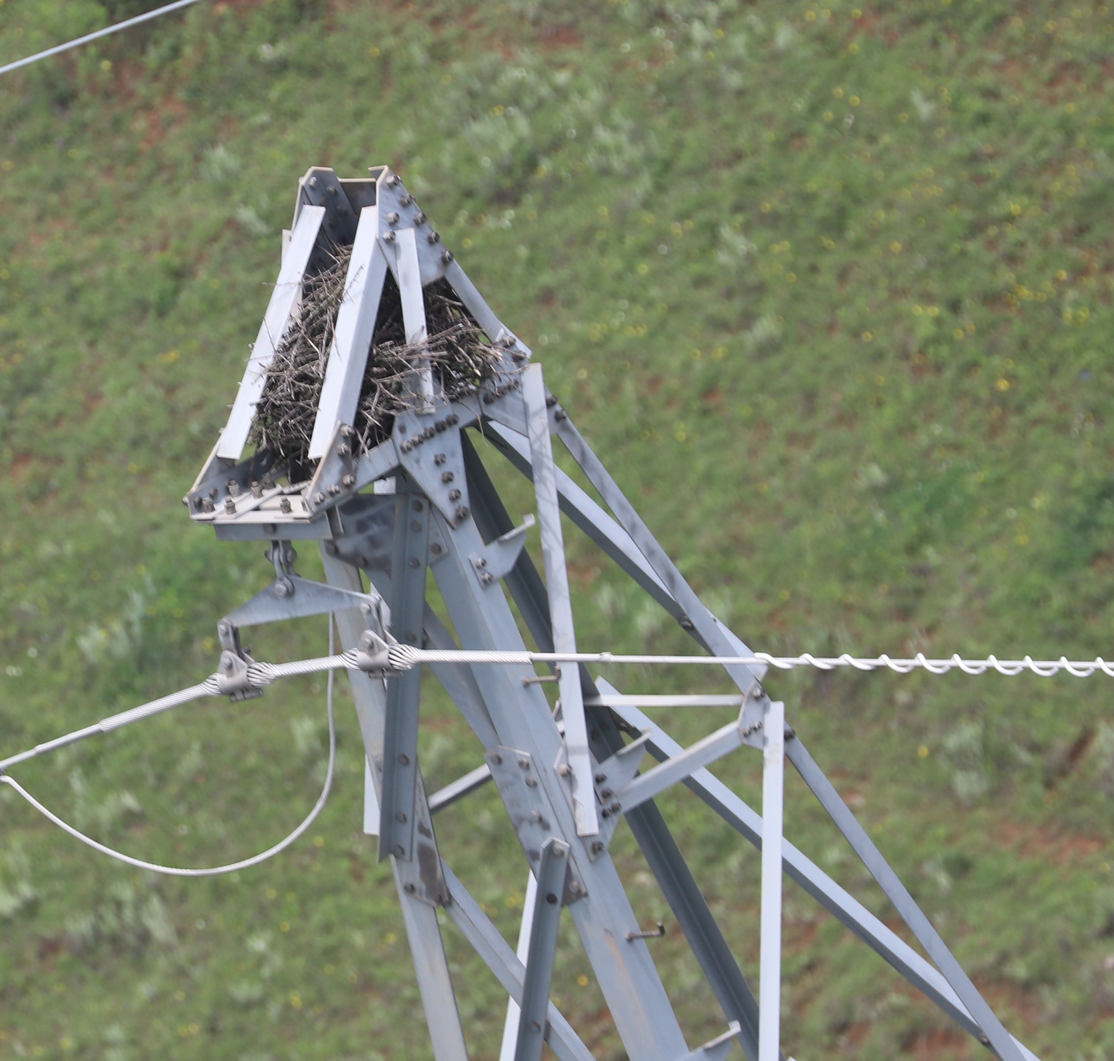nest: (242, 255, 485, 457)
